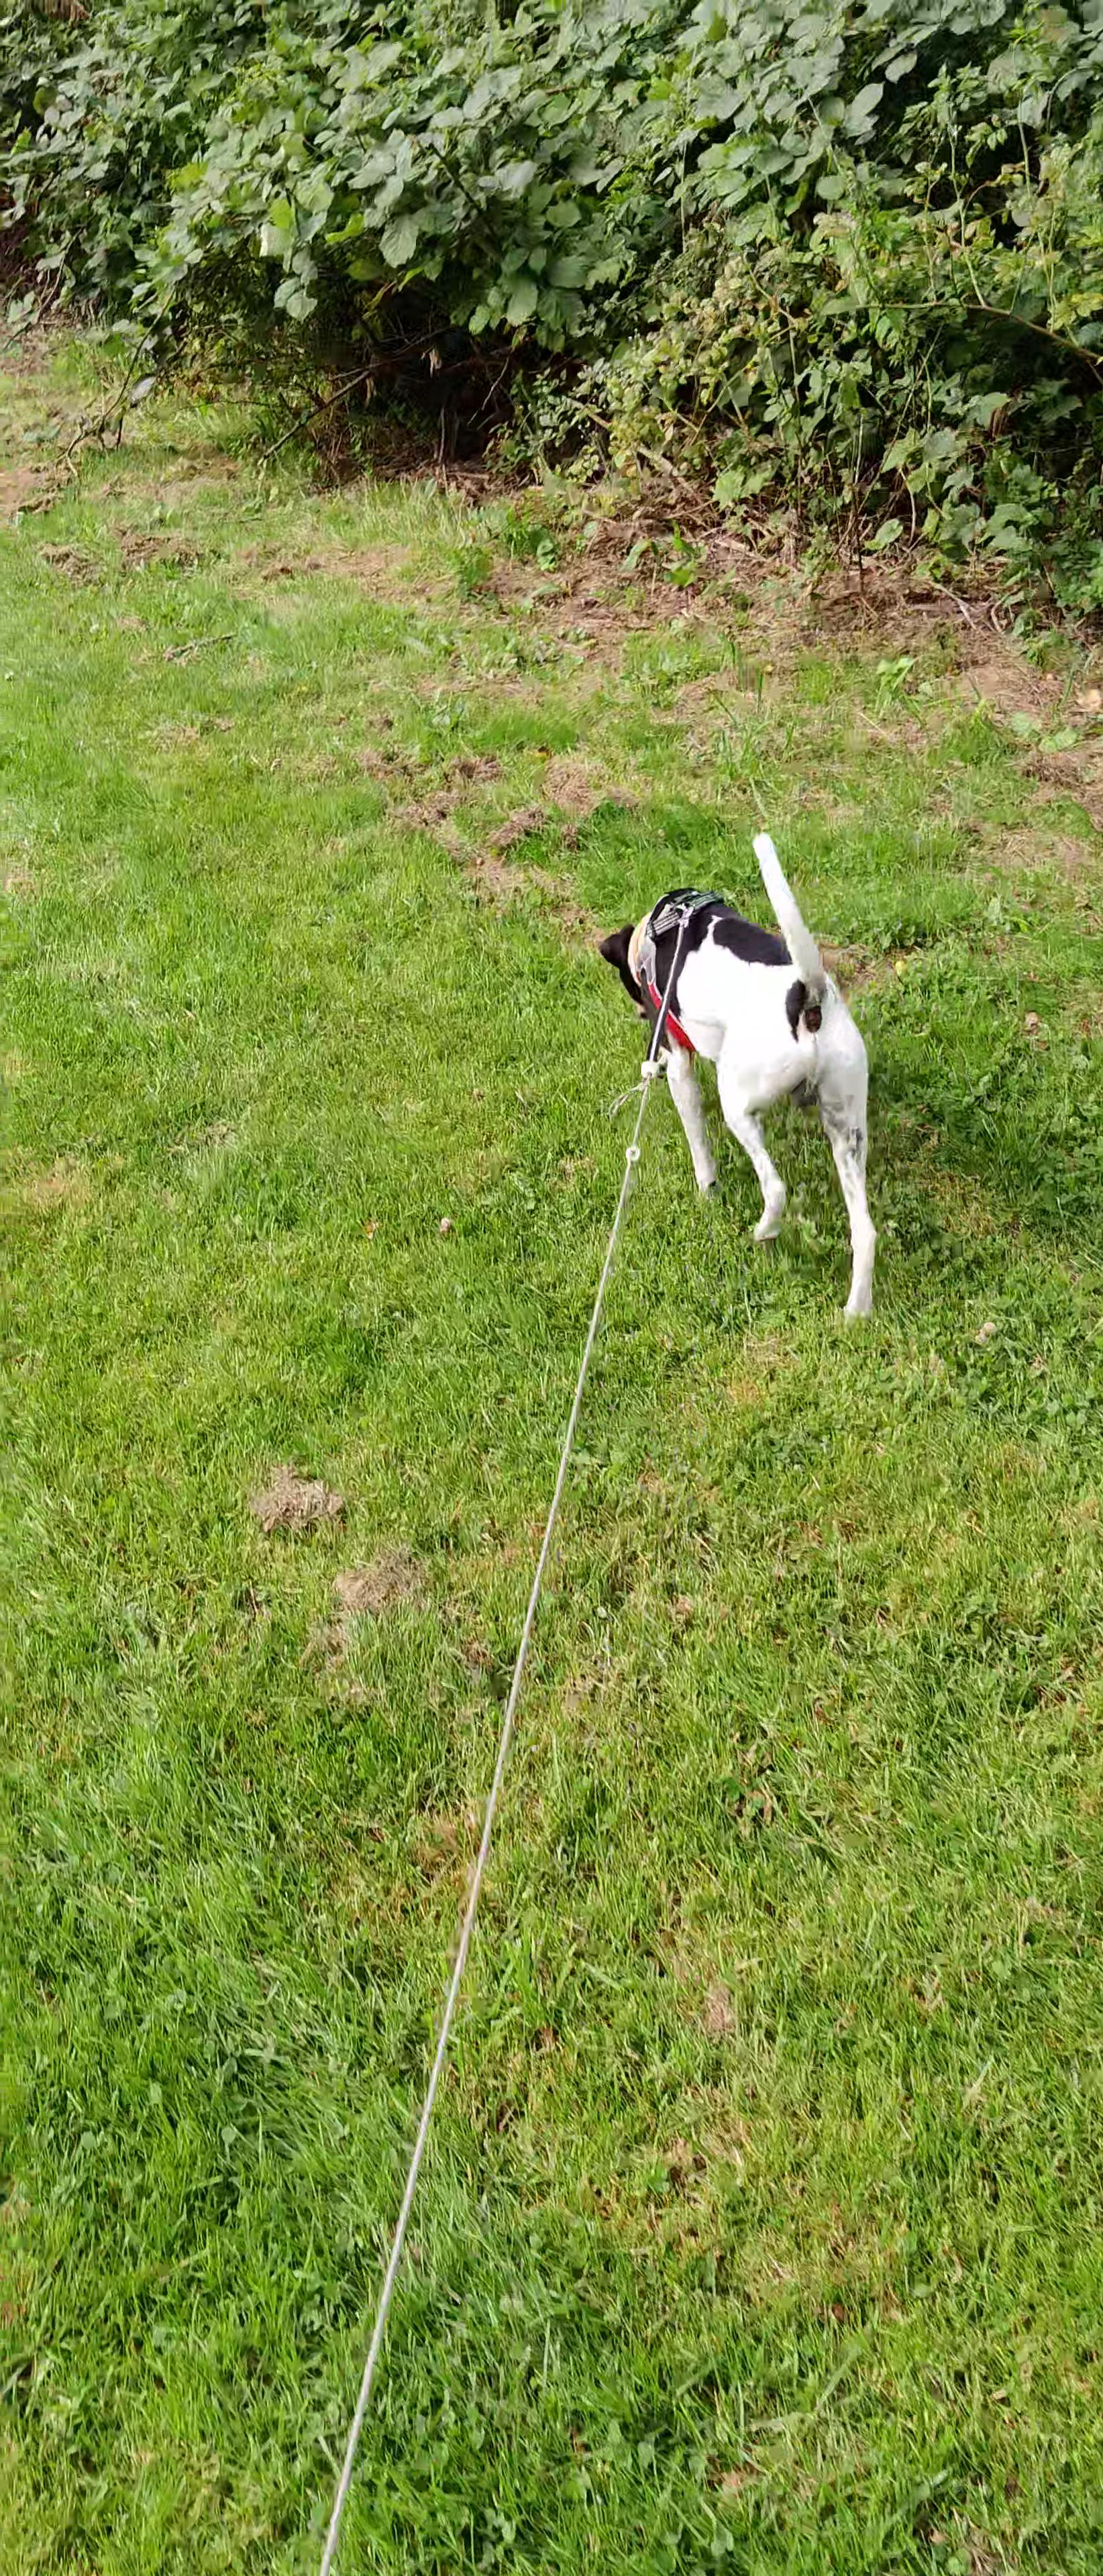Dog: (582, 802, 899, 1339)
